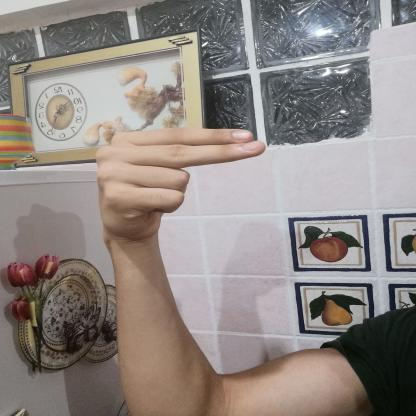AYN: (72, 110, 281, 251)
